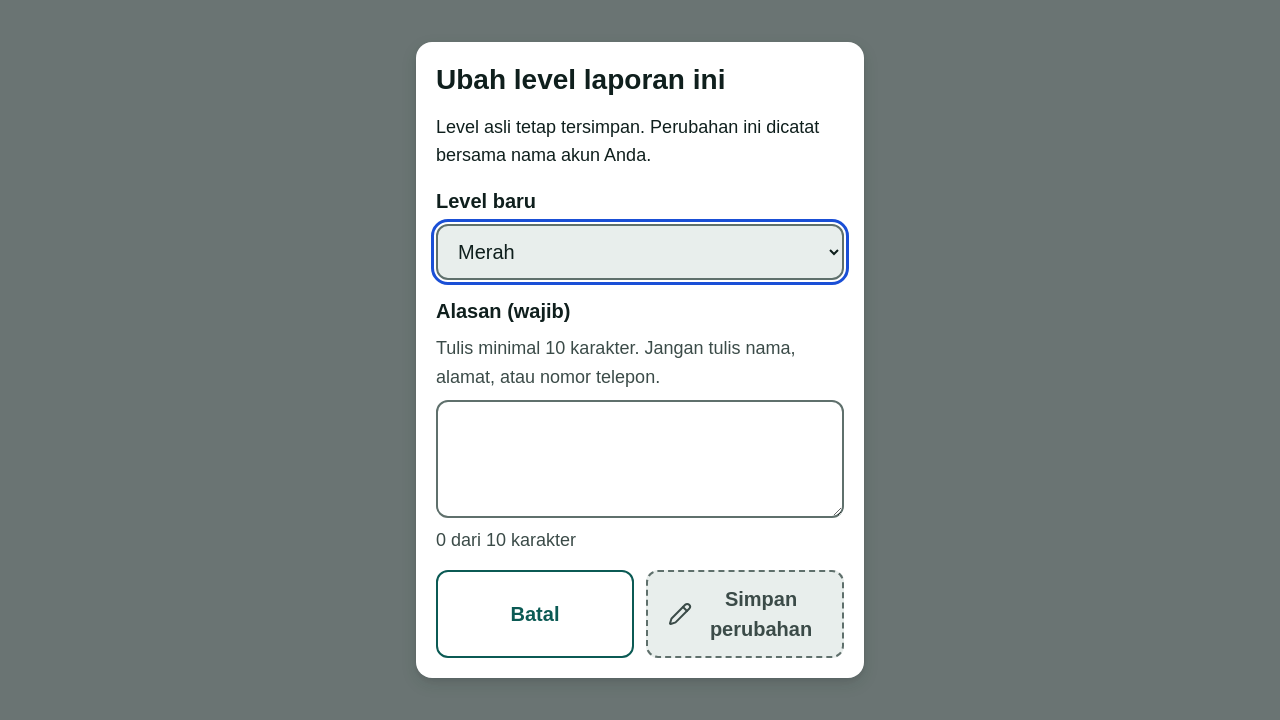
Test: OverrideDialog (nurse-queue 5.6) › keeps the save button disabled until the reason has 10 characters, and counts them
Expected: the button "Simpan perubahan" is disabled, top-left (646, 570), bottom-right (844, 658)
Type "sembilan!!" into the text box labelled "Alasan (wajib)" at (640, 459), box top-left (436, 400), bottom-right (844, 518)
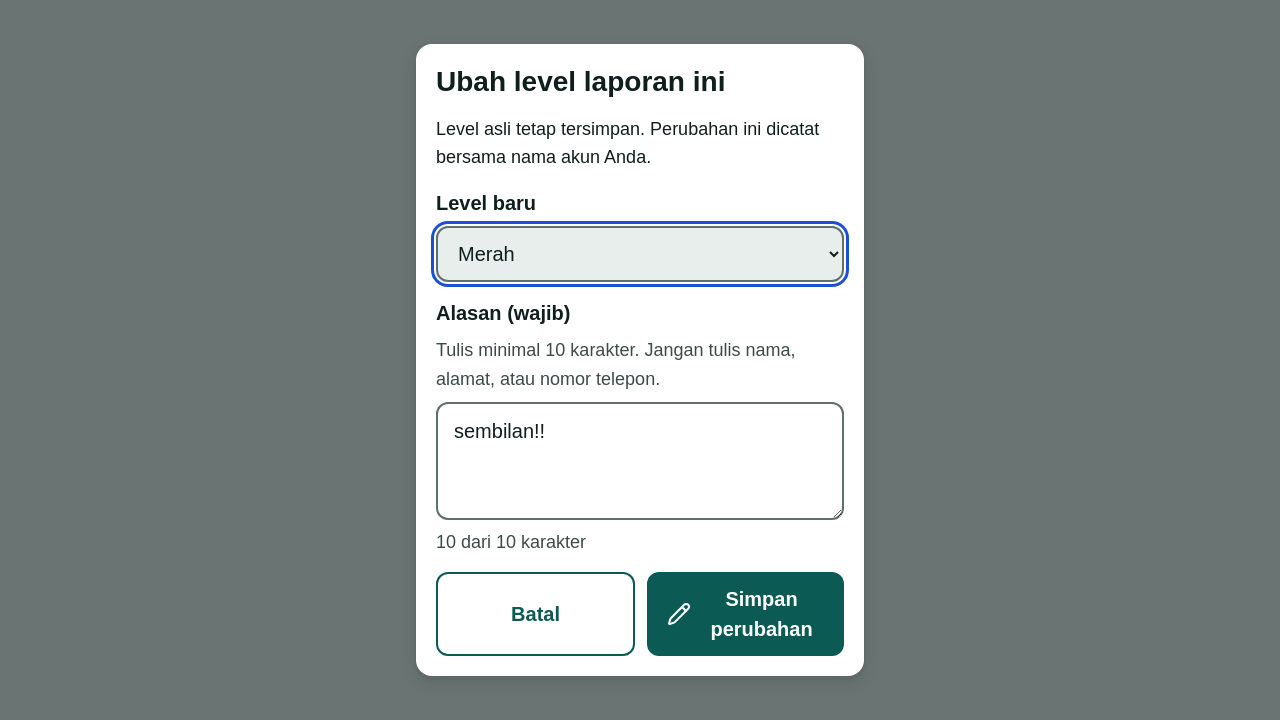
Expected: the button "Simpan perubahan" is enabled, top-left (647, 572), bottom-right (844, 656)
Replace the text in the text box labelled "Alasan (wajib)" with "   pendek   " at (640, 461), box top-left (436, 402), bottom-right (844, 520)
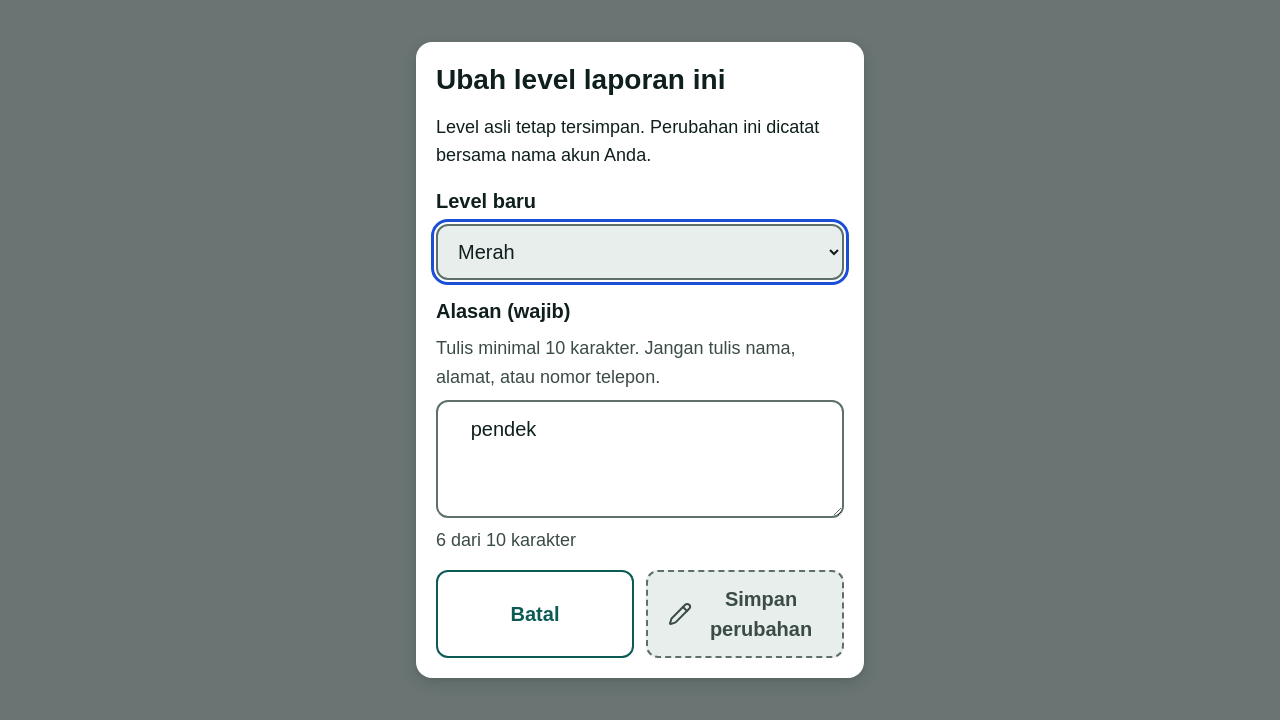
Expected: the button "Simpan perubahan" is disabled, top-left (646, 570), bottom-right (844, 658)
